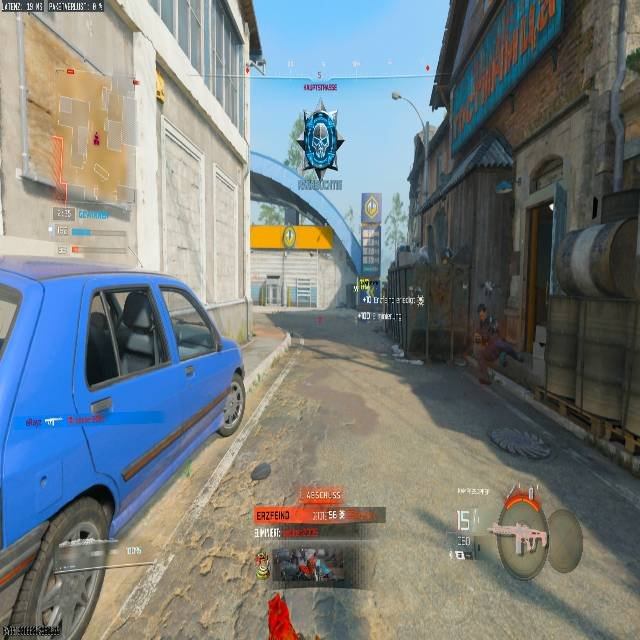player: (474, 303, 520, 387), (292, 110, 344, 179), (355, 289, 374, 323)
